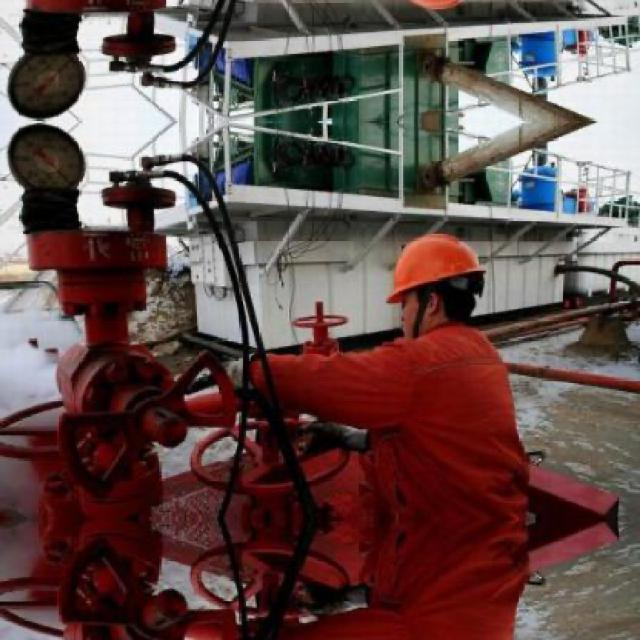con casco: (356, 208, 532, 351)
